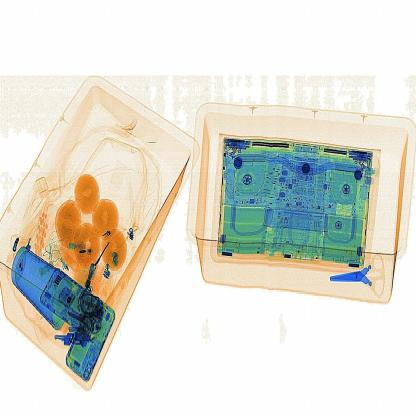gun: (327, 243, 395, 302)
